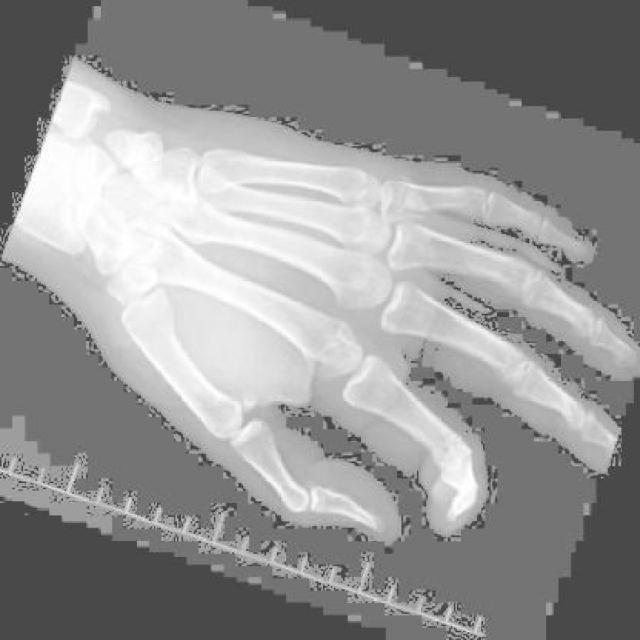Fracture: (390, 180, 439, 228)
